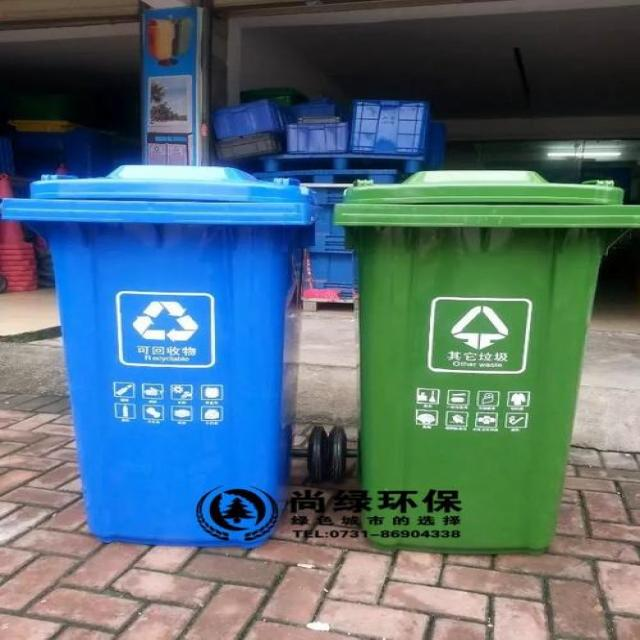garbage_bin: (0, 163, 314, 548), (332, 168, 638, 555)
